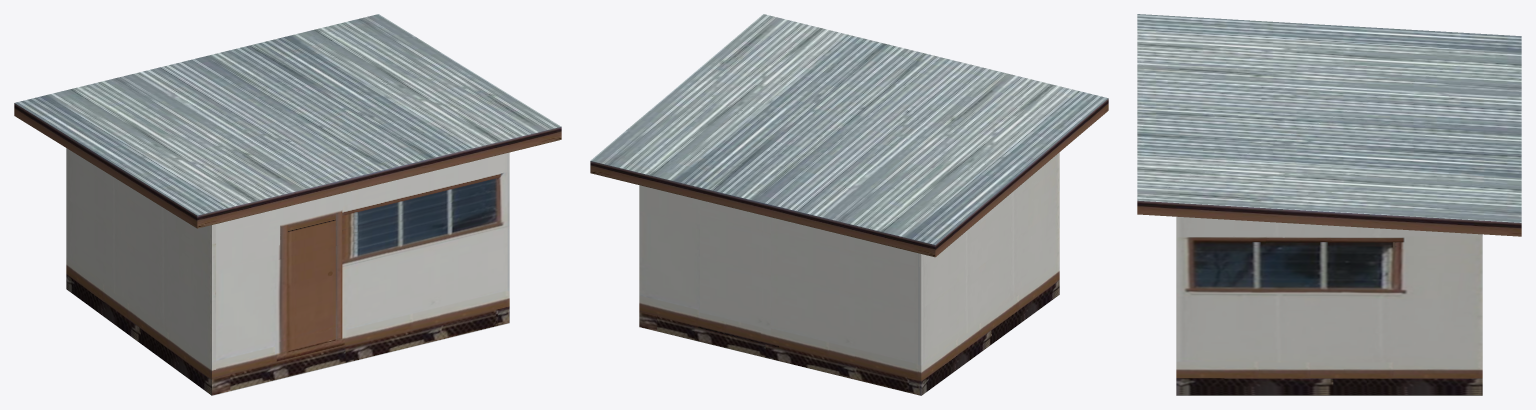
Rendered from terminal-tiny-6x5v2-cbj_LOD01.gltf.
3 views of the same model, side by side, from view 1: azimuth 30°, elevation 25°; view 2: azimuth 150°, elevation 25°; view 3: azimuth 270°, elevation 25° (orthographic). The views are drawn at different scales.
Parts seen in each view (by area): view 1: Cube.001; view 2: Cube.001; view 3: Cube.001.
Part boxes in pixels (x1,y1,x2,y2): Cube.001: (14,14,561,395); Cube.001: (590,14,1108,395); Cube.001: (1137,14,1521,395).
Bounding box in the file's own units: 6.12 × 3.24 × 5.32.
